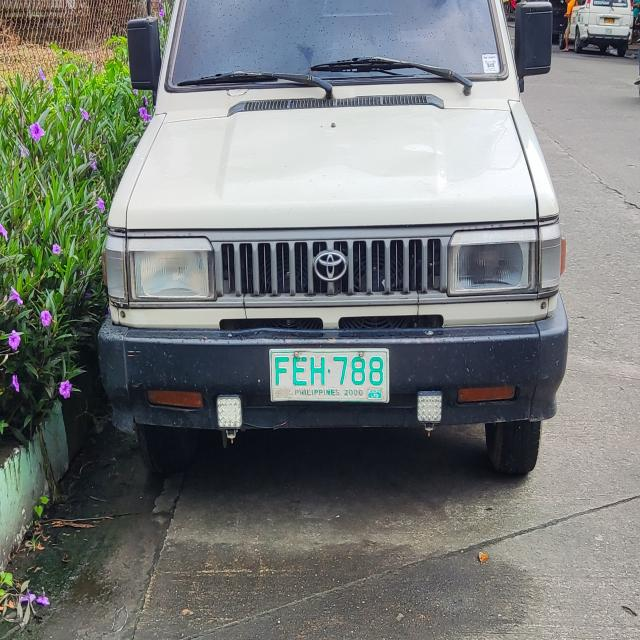plate: (268, 347, 391, 404)
